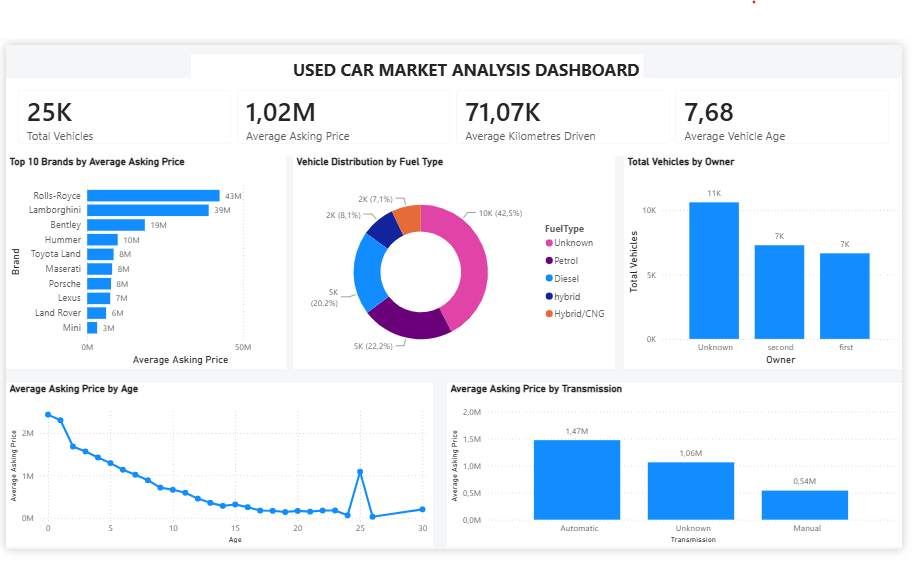

The dashboard page shown, as its layout file describes it:
{"tool":"powerbi","page":{"name":"Page 1","canvas":[1280,720],"ordinal":0},"visuals":[{"type":"cardVisual","fields":{"Data":["used_cars_dataset.Total Vehicles","used_cars_dataset.Average Asking Price","used_cars_dataset.Average Kilometres Driven","used_cars_dataset.Average Vehicle Age"]},"box":[0,47.1,1280,111.4],"z":0},{"type":"clusteredBarChart","title":"Top 10 Brands by Average Asking Price","fields":{"Category":["used_cars_dataset.Brand"],"Y":["used_cars_dataset.Average Asking Price"]},"box":[0,158.6,400,304.3],"z":1000},{"type":"donutChart","title":"Vehicle Distribution by Fuel Type","fields":{"Category":["used_cars_dataset.FuelType"],"Y":["used_cars_dataset.Total Vehicles"]},"box":[410,158.6,460,304.3],"z":2000},{"type":"clusteredColumnChart","fields":{"Category":["used_cars_dataset.Transmission"],"Y":["used_cars_dataset.Average Asking Price"]},"box":[630,482.9,650,234.3],"z":3000},{"type":"lineChart","fields":{"Category":["used_cars_dataset.Age"],"Y":["used_cars_dataset.Average Asking Price"]},"box":[0,482.9,610,234.3],"z":4000},{"type":"clusteredColumnChart","fields":{"Category":["used_cars_dataset.Owner"],"Y":["used_cars_dataset.Total Vehicles"]},"box":[882.9,158.6,397.1,304.3],"z":5000},{"type":"textbox","box":[264.3,12.9,645.7,47.1],"z":5002}]}

Visuals, with their boxes on the page's 1280x720 design canvas (x1, y1, x2, y2). These are canvas units, not pixel positions in the 917x564 screenshot, which may show the page scaled, cropped or inside an application window:
cardVisual - used_cars_dataset.Total Vehicles x used_cars_dataset.Average Asking Price: detection(0, 47, 1280, 158)
"Top 10 Brands by Average Asking Price" clusteredBarChart: detection(0, 159, 400, 463)
"Vehicle Distribution by Fuel Type" donutChart: detection(410, 159, 870, 463)
clusteredColumnChart - used_cars_dataset.Transmission x used_cars_dataset.Average Asking Price: detection(630, 483, 1280, 717)
lineChart - used_cars_dataset.Age x used_cars_dataset.Average Asking Price: detection(0, 483, 610, 717)
clusteredColumnChart - used_cars_dataset.Owner x used_cars_dataset.Total Vehicles: detection(883, 159, 1280, 463)
textbox: detection(264, 13, 910, 60)
